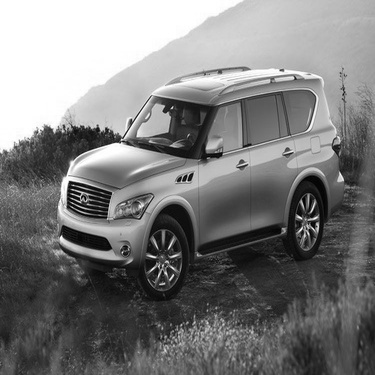car: (50, 47, 349, 304)
